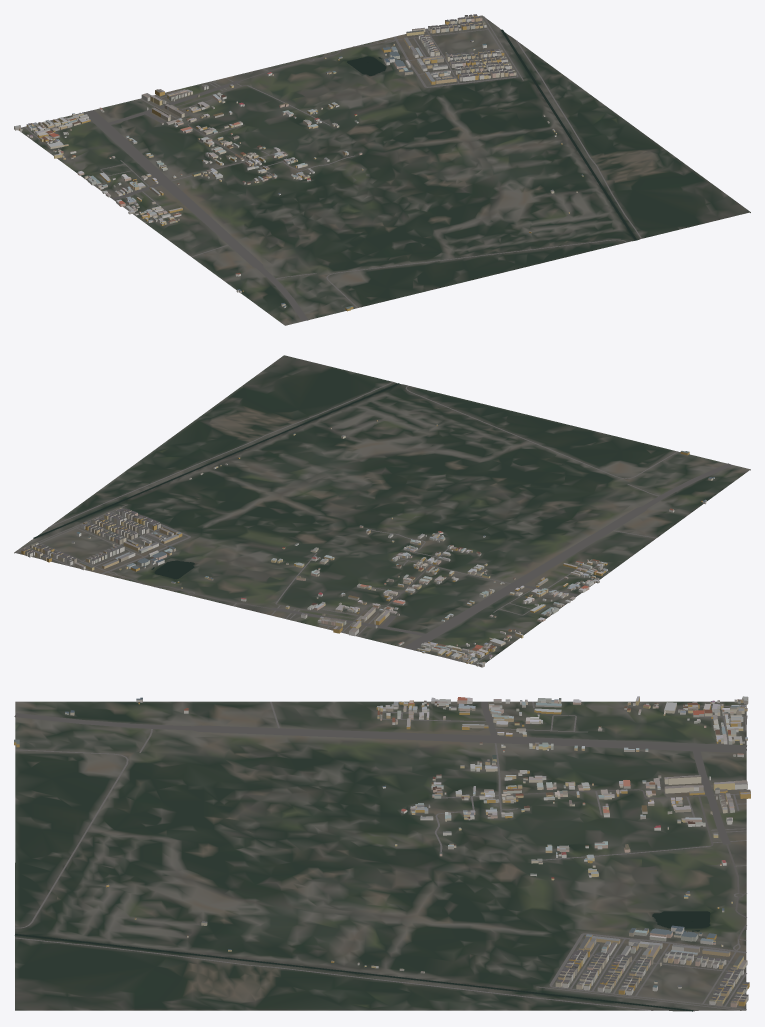
3 views of the same model, one above another, from view 1: azimuth 30°, elevation 25°; view 2: azimuth 150°, elevation 25°; view 3: azimuth 270°, elevation 25° (orthographic). The views are drawn at different scales.
Parts seen in each view (by area): view 1: ground, buildings, roads, water; view 2: ground, buildings, roads, water; view 3: ground, buildings, roads, water.
Part boxes in pixels (x1,y1,x2,y2): ground: (18, 15, 750, 325); buildings: (14, 14, 583, 311); roads: (24, 15, 641, 321); water: (347, 29, 637, 240); ground: (14, 355, 750, 665); buildings: (21, 420, 714, 667); roads: (15, 382, 732, 664); water: (33, 383, 399, 579); ground: (15, 701, 746, 1011); buildings: (14, 696, 750, 1007); roads: (14, 701, 747, 1010); water: (15, 911, 710, 1011).
Bounding box in the file's own units: 1411 × 17.48 × 1411.
